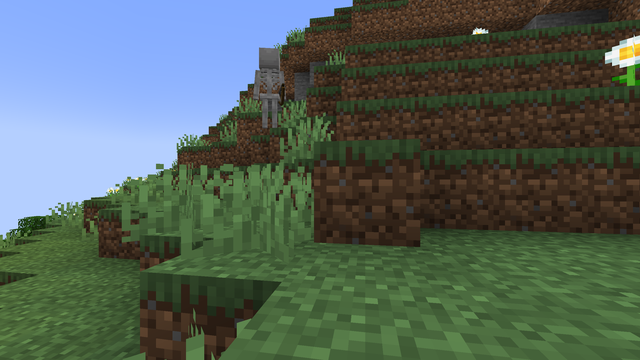squelettes: (254, 46, 283, 130)
